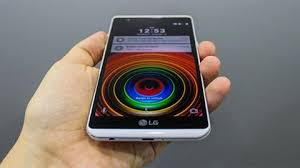lg: (88, 12, 213, 148)
